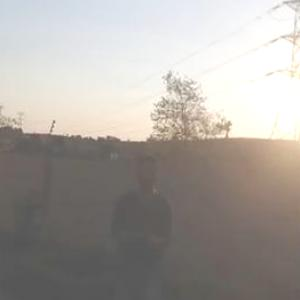follow: (104, 148, 180, 299)
